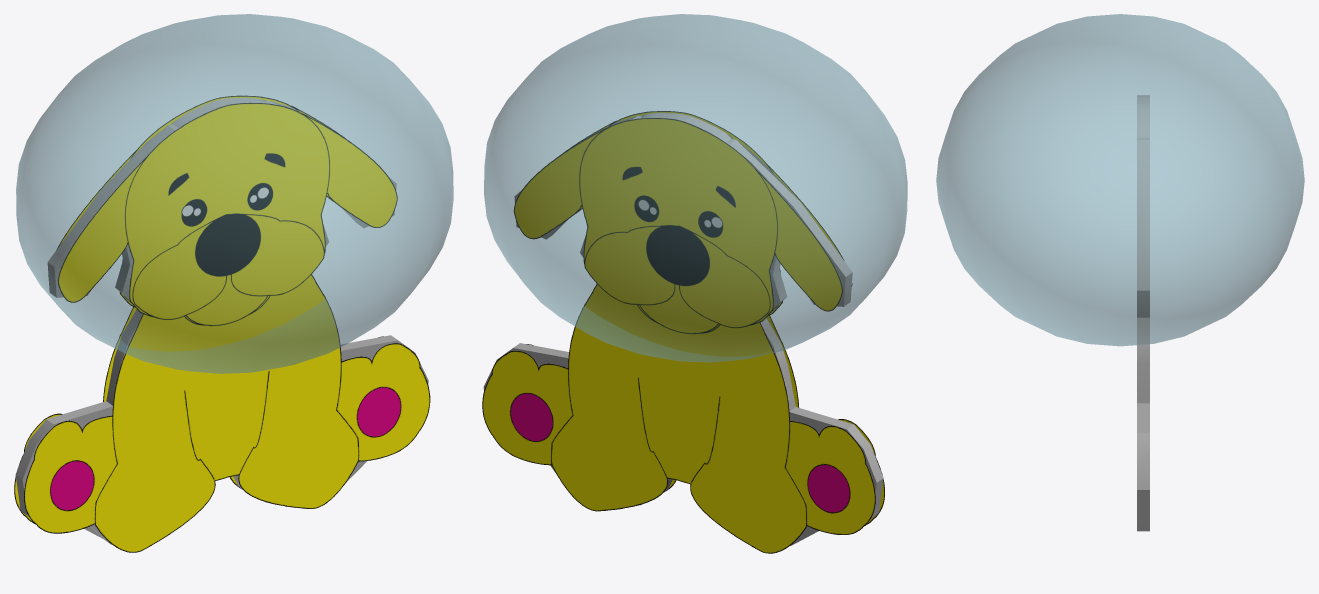
Rendered from Dog.fbx.
The picture shows the model from 3 angles, left to right: view 1: azimuth 30°, elevation 25°; view 2: azimuth 150°, elevation 25°; view 3: azimuth 270°, elevation 25°; orthographic projection. The views are drawn at different scales.
Parts seen in each view (by area): view 1: pSphere1, pPlane1, polySurface1, pPlane4; view 2: pSphere1, pPlane4, polySurface1, pPlane1; view 3: pSphere1, polySurface1.
Boxes of the visible parts, box(x1,y1,x2,y2) form: pSphere1: box(16, 14, 453, 373); pPlane1: box(24, 103, 430, 552); polySurface1: box(15, 97, 428, 544); pPlane4: box(14, 95, 383, 523); pSphere1: box(484, 14, 907, 362); pPlane4: box(482, 118, 875, 553); polySurface1: box(483, 113, 883, 545); pPlane1: box(526, 111, 884, 525); pSphere1: box(936, 14, 1304, 346); polySurface1: box(1137, 95, 1149, 531).
Bounding box in the file's own units: 1 × 1.17 × 0.8672.
